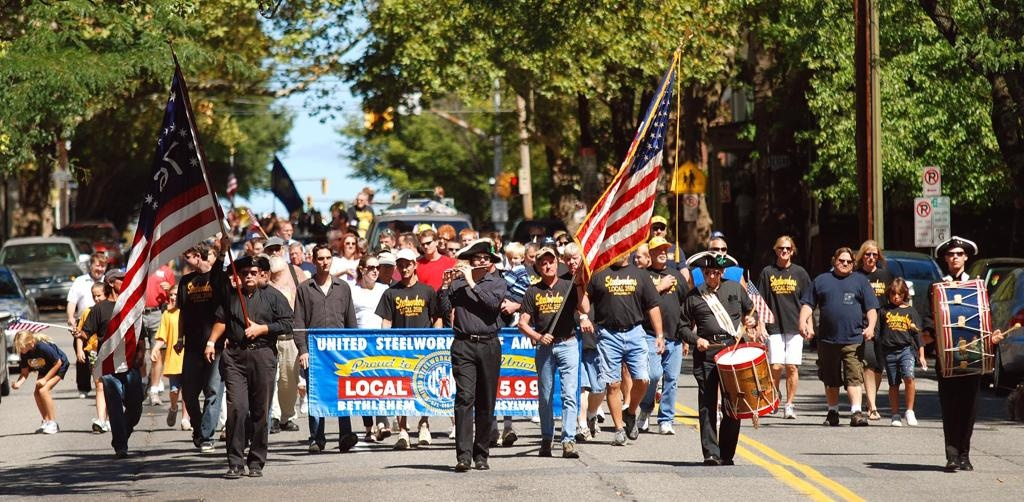human_face: (239, 264, 259, 286), (538, 252, 556, 276), (835, 252, 853, 274), (316, 248, 332, 272), (364, 258, 380, 282), (947, 246, 963, 268), (445, 242, 461, 262), (398, 258, 414, 276), (473, 250, 489, 268), (564, 252, 580, 270), (862, 246, 878, 264), (184, 250, 198, 270), (91, 260, 105, 278), (634, 250, 648, 268), (572, 210, 586, 228), (704, 268, 718, 286), (114, 275, 128, 292), (91, 289, 105, 305), (200, 248, 214, 264), (420, 236, 434, 252), (342, 238, 356, 254), (650, 223, 666, 237), (712, 240, 726, 256), (777, 242, 791, 258), (396, 236, 408, 254), (654, 244, 666, 262), (278, 224, 292, 238), (506, 252, 520, 266), (265, 246, 281, 258), (438, 234, 450, 250), (289, 248, 301, 262), (380, 262, 392, 276), (378, 236, 390, 250), (526, 250, 538, 264), (890, 288, 902, 302), (532, 231, 544, 244), (461, 235, 473, 247), (302, 249, 312, 263), (558, 236, 568, 250), (168, 290, 178, 302), (253, 243, 263, 255), (356, 246, 366, 256), (331, 235, 341, 245), (492, 238, 500, 250), (356, 196, 364, 206)
